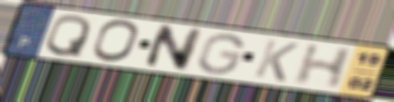G: (194, 33, 247, 76)
H: (290, 43, 358, 90)
K: (251, 38, 302, 84)
N: (141, 23, 206, 73)
O: (89, 18, 142, 64)
Q: (43, 13, 94, 58)
